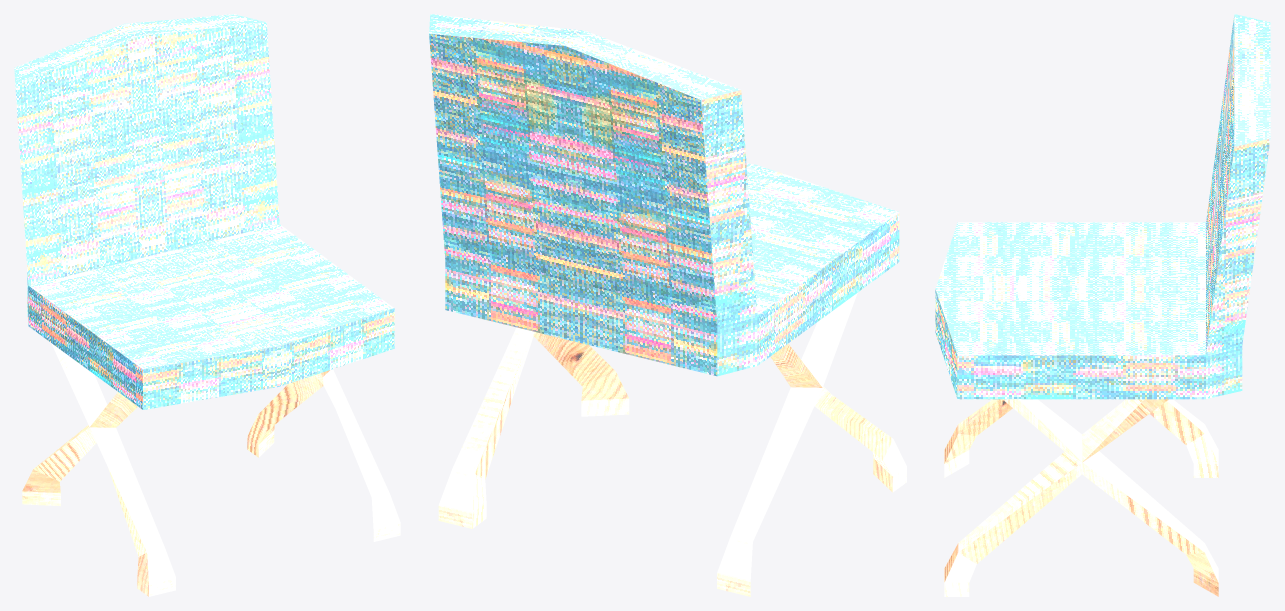
Rendered from Chair.glb.
3 views of the same model, side by side, from view 1: azimuth 30°, elevation 25°; view 2: azimuth 150°, elevation 25°; view 3: azimuth 270°, elevation 25° (orthographic). The views are drawn at different scales.
Parts seen in each view (by area): view 1: Chair; view 2: Chair; view 3: Chair.
Boxes of the visible parts, box(x1,y1,x2,y2) form: Chair: box(14, 14, 400, 596); Chair: box(429, 14, 906, 596); Chair: box(935, 14, 1270, 596).
Bounding box in the file's own units: 1.17 × 1.92 × 1.24.
